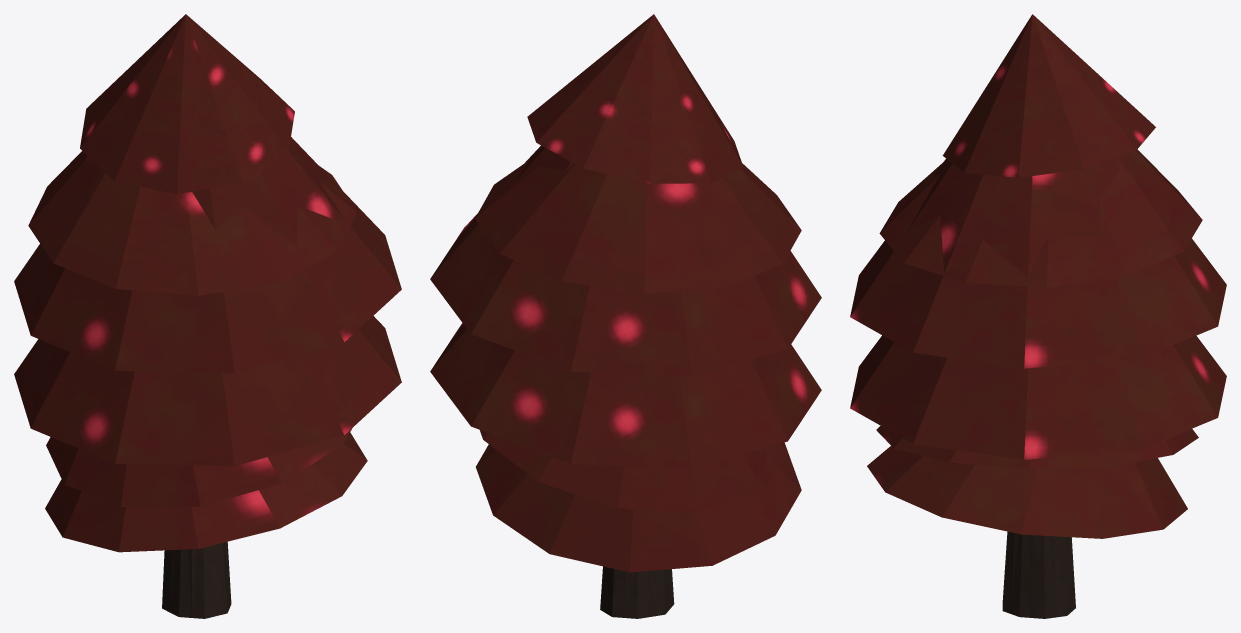
The model's file is tree-purple-red-flowers_1.fbx.
The picture shows the model from 3 angles, left to right: view 1: azimuth 30°, elevation 25°; view 2: azimuth 150°, elevation 25°; view 3: azimuth 270°, elevation 25°; orthographic projection.
Parts seen in each view (by area): view 1: Cylinder.035; view 2: Cylinder.035; view 3: Cylinder.035.
Boxes of the visible parts, <box> form: Cylinder.035: <box>14,14,401,618</box>; Cylinder.035: <box>430,14,821,618</box>; Cylinder.035: <box>850,14,1226,618</box>.
Bounding box in the file's own units: 111 × 186 × 109.
